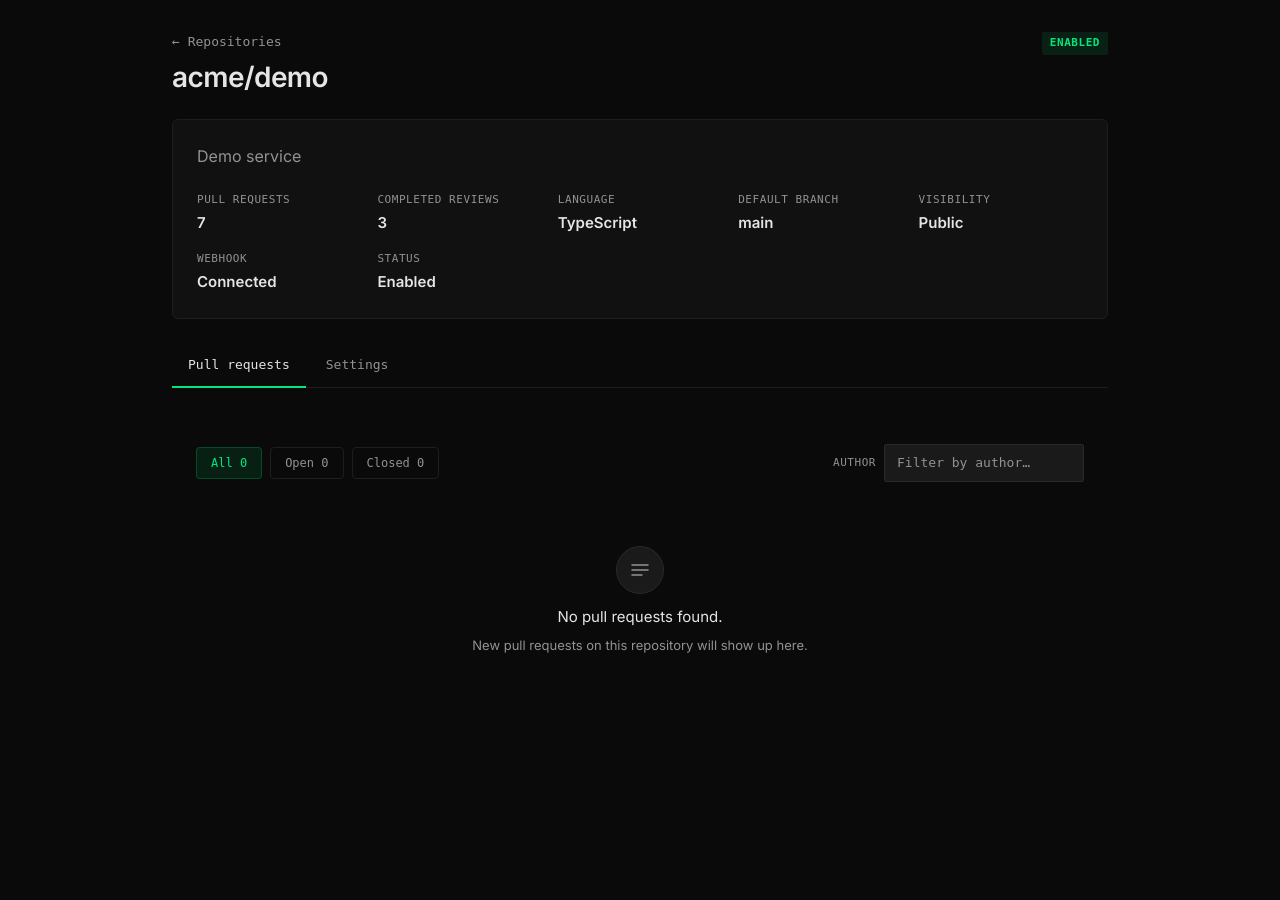
RepositoryDetailComponent — detail header, tabs and guarded mutations (plan Step 6) › saves a changed default branch via PATCH and shows inline success
Click the tab with test id "tab-settings" at (357, 365), box [310,342,404,388]
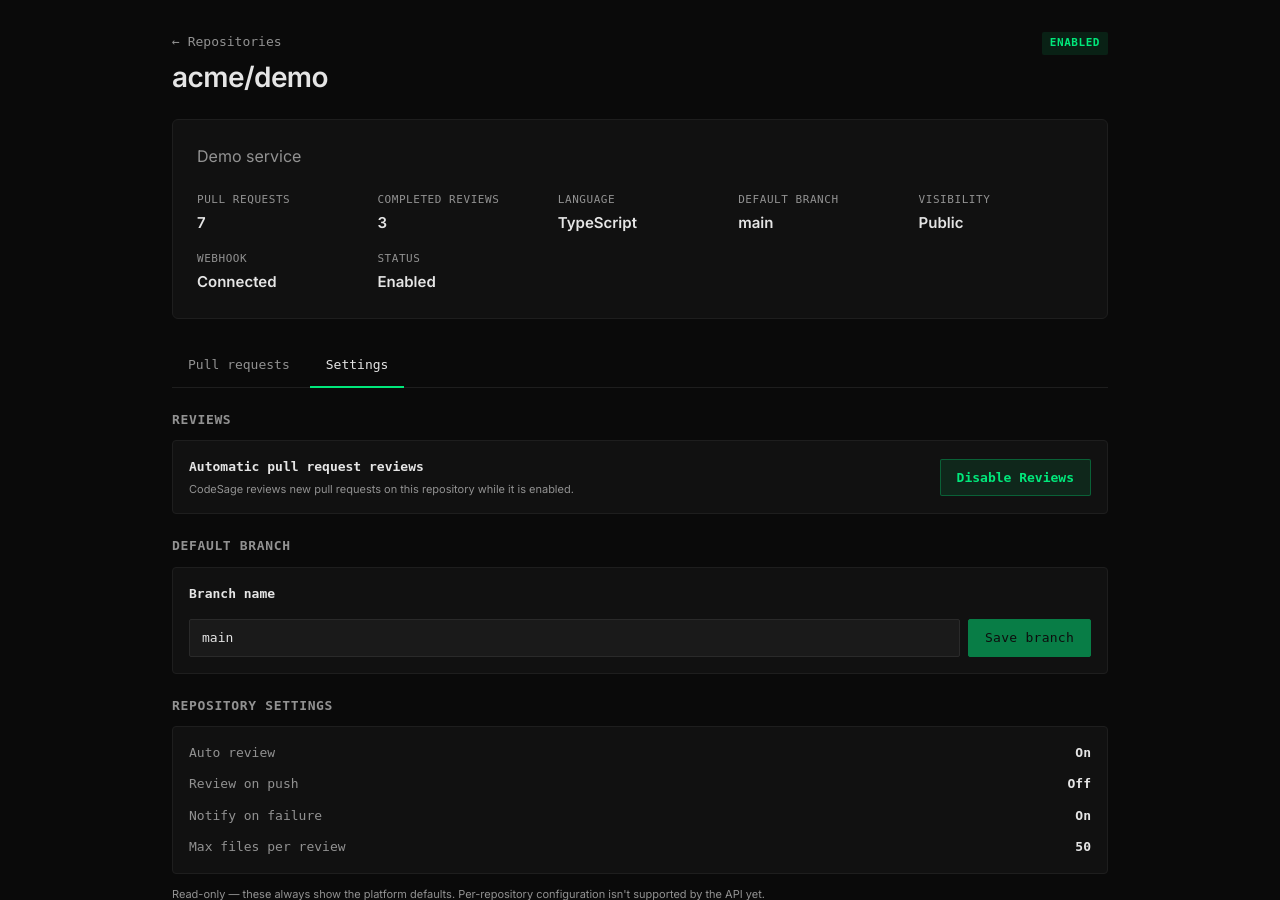
Now the button with test id "branch-save" is disabled, box [968,619,1091,656]
Replace the text in the field with test id "branch-input" with "develop" at (574, 638), box [189,619,960,656]
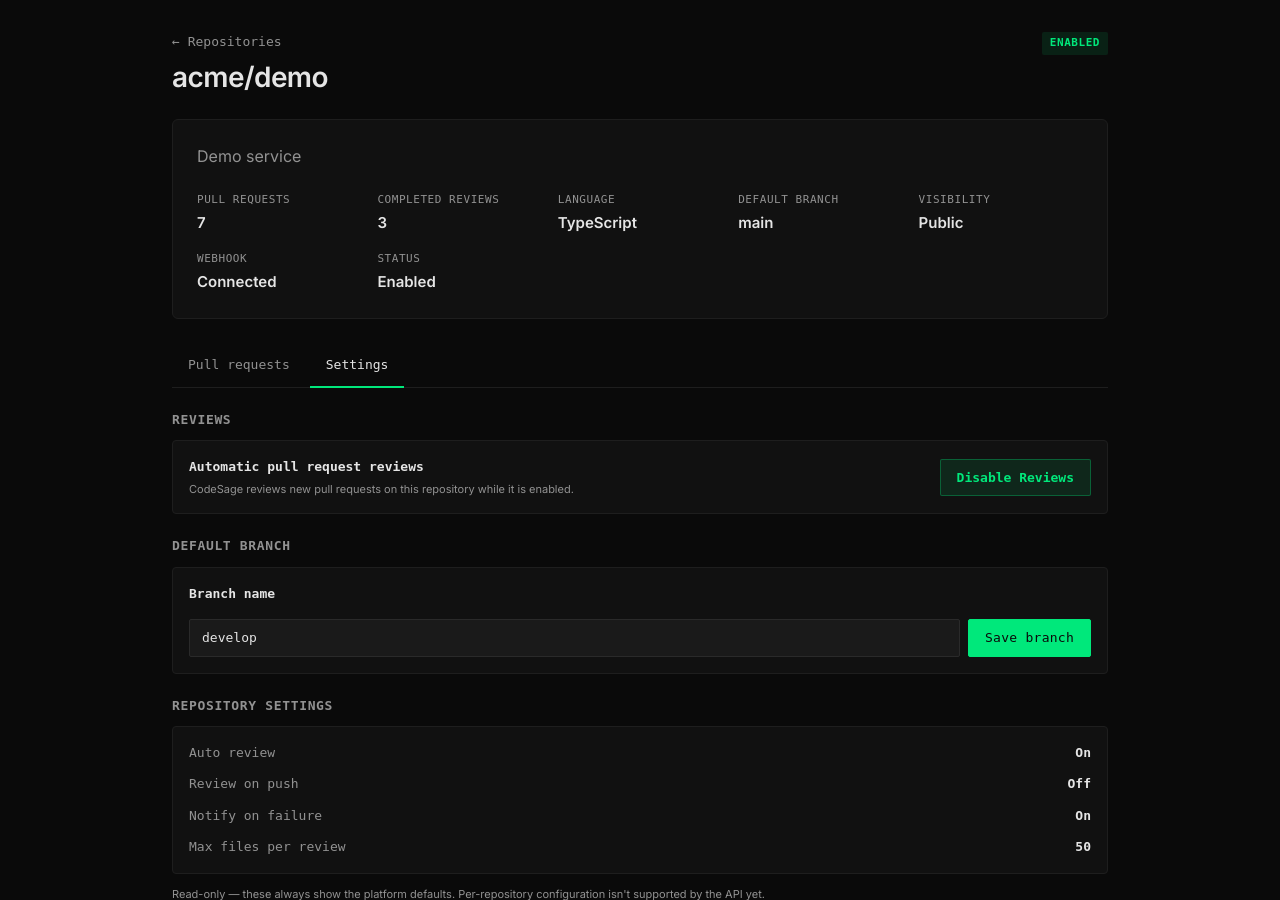
Now the button with test id "branch-save" is enabled
Click the button with test id "branch-save" at (1030, 638), box [968,619,1091,656]
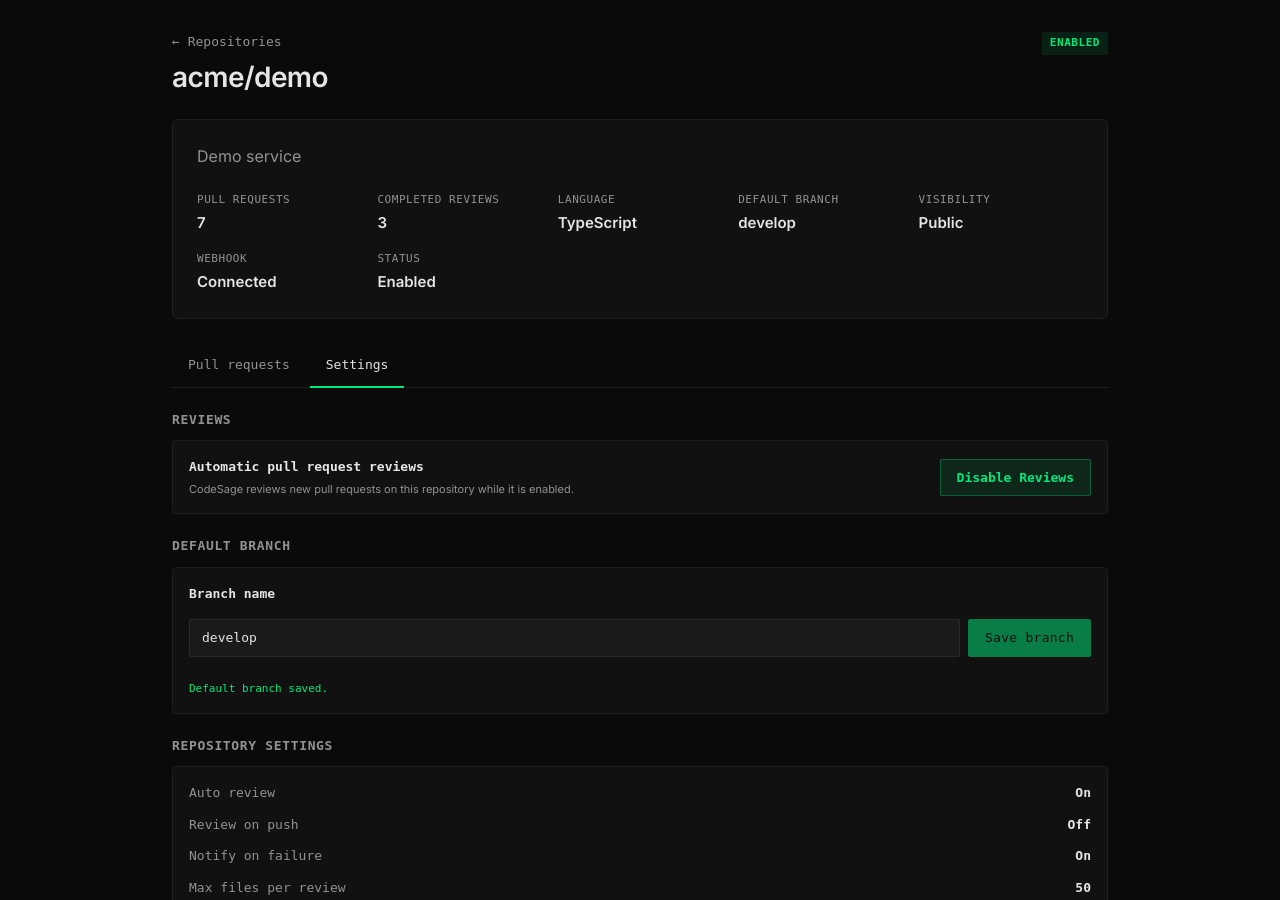
Now the text "develop" is shown, box [738,213,796,232]
Now the text "Default branch saved." is shown, box [189,682,328,694]
Now the button with test id "branch-save" is disabled, box [968,619,1091,656]
